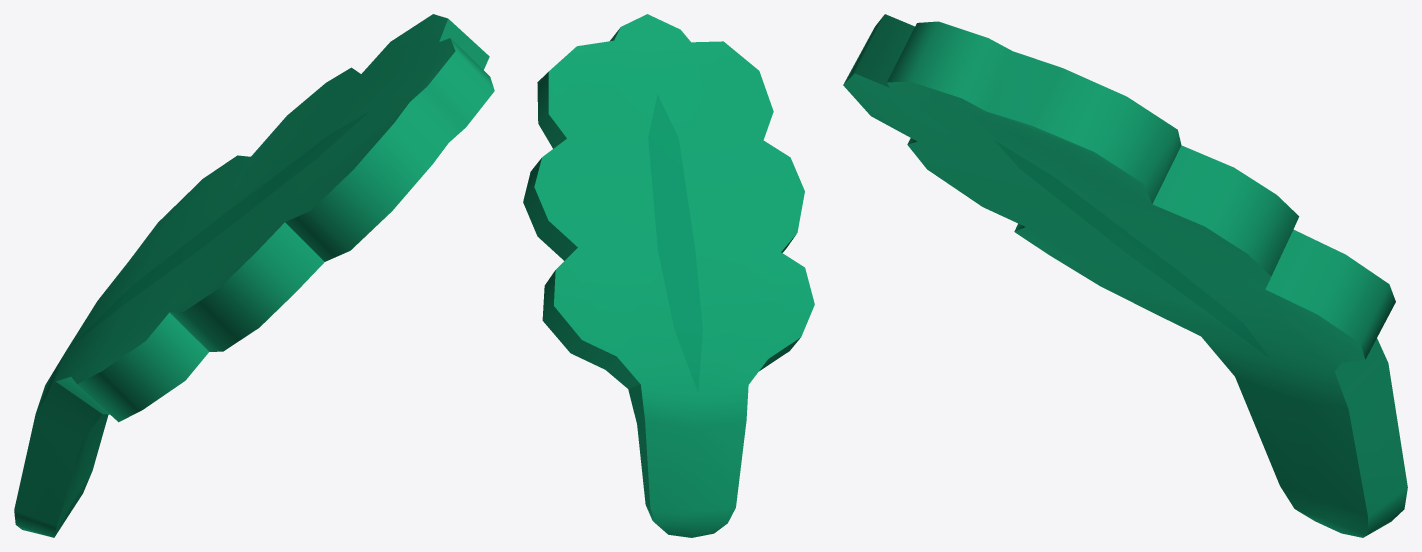
Rendered from CarrotLeaf4.fbx.
3 renders of one model, left to right at view 1: azimuth 30°, elevation 25°; view 2: azimuth 150°, elevation 25°; view 3: azimuth 270°, elevation 25°, orthographic. The views are drawn at different scales.
Parts seen in each view (by area): view 1: CarrotPlant2A_Leaf4; view 2: CarrotPlant2A_Leaf4; view 3: CarrotPlant2A_Leaf4.
Boxes of the visible parts, x1,y1,x2,y2 form: CarrotPlant2A_Leaf4: (14,14,494,537); CarrotPlant2A_Leaf4: (523,14,814,537); CarrotPlant2A_Leaf4: (843,14,1407,537).
Size of the model in its own units: 10.9 by 14.8 by 11.81.
